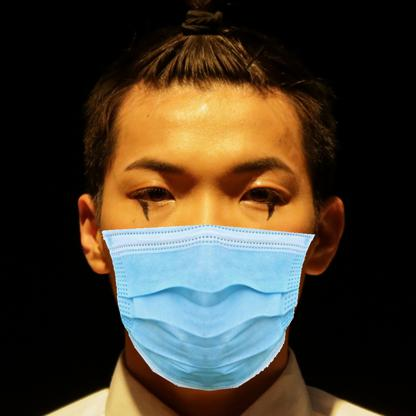mask: (101, 230, 317, 391)
